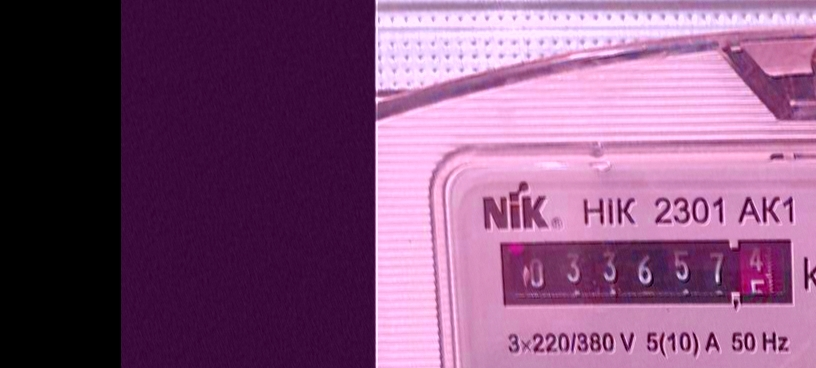0: (528, 255, 549, 292)
3: (566, 251, 585, 286), (602, 250, 620, 285)
4: (749, 245, 768, 275)
5: (672, 248, 694, 284)
6: (636, 253, 656, 288)
7: (709, 250, 727, 286)
screen: (490, 233, 803, 315)
